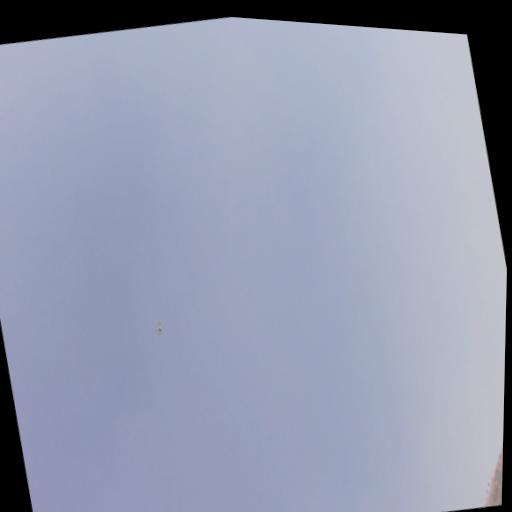drones: (153, 320, 166, 339)
